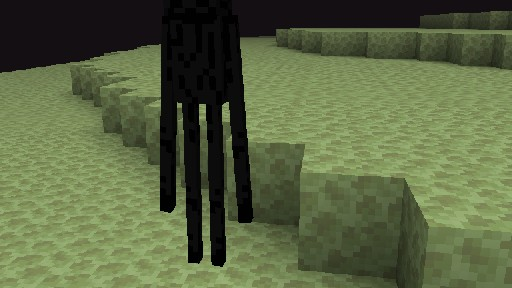enderman: (159, 0, 253, 272)
